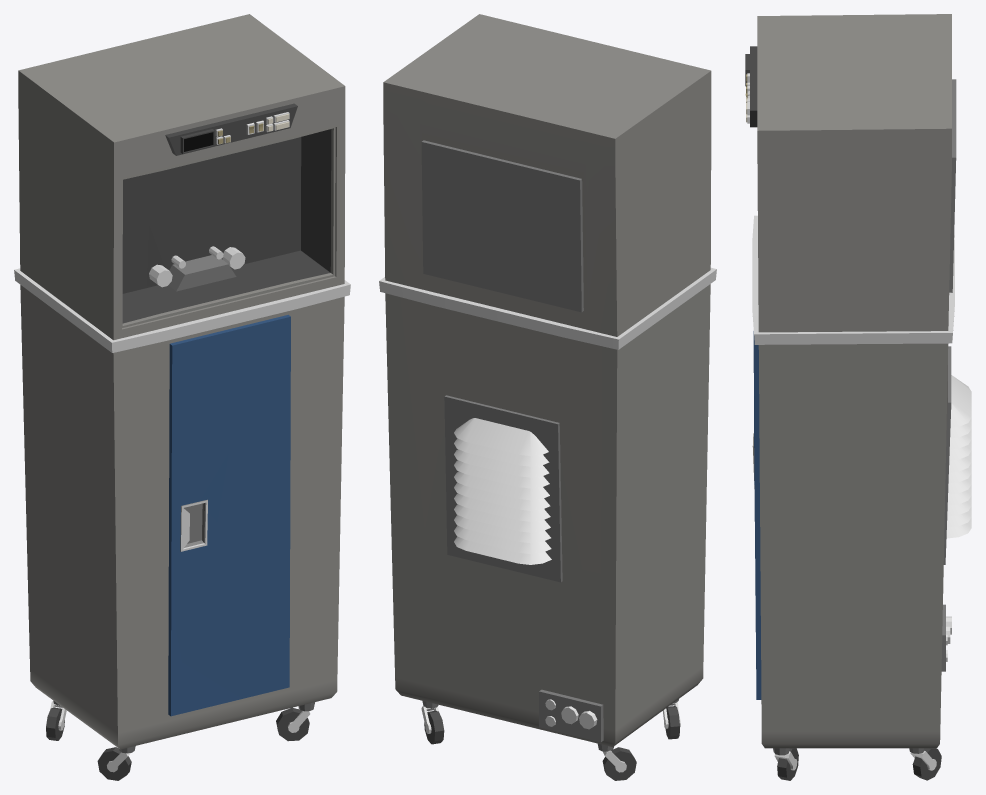
File: vending-machine-60s--2.gltf
3 renders of one model, left to right at view 1: azimuth 30°, elevation 25°; view 2: azimuth 150°, elevation 25°; view 3: azimuth 270°, elevation 25°, orthographic.
Visible parts, largest first — view 1: Cube.000; view 2: Cube.000; view 3: Cube.000.
Part boxes in pixels (x1=…): Cube.000: x1=14, y1=14, x2=350, y2=780; Cube.000: x1=379, y1=14, x2=716, y2=780; Cube.000: x1=745, y1=14, x2=971, y2=780.
Size of the model in its own units: 0.6021 by 1.58 by 0.4854.
